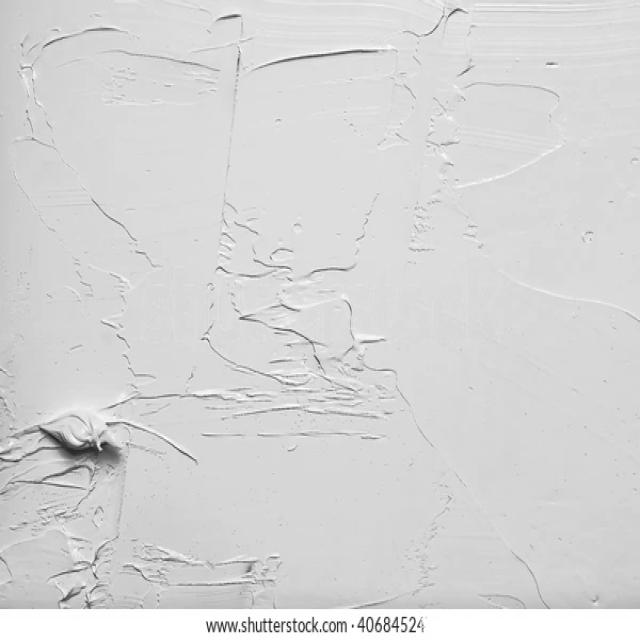rough and patchy surface: (7, 12, 627, 599)
